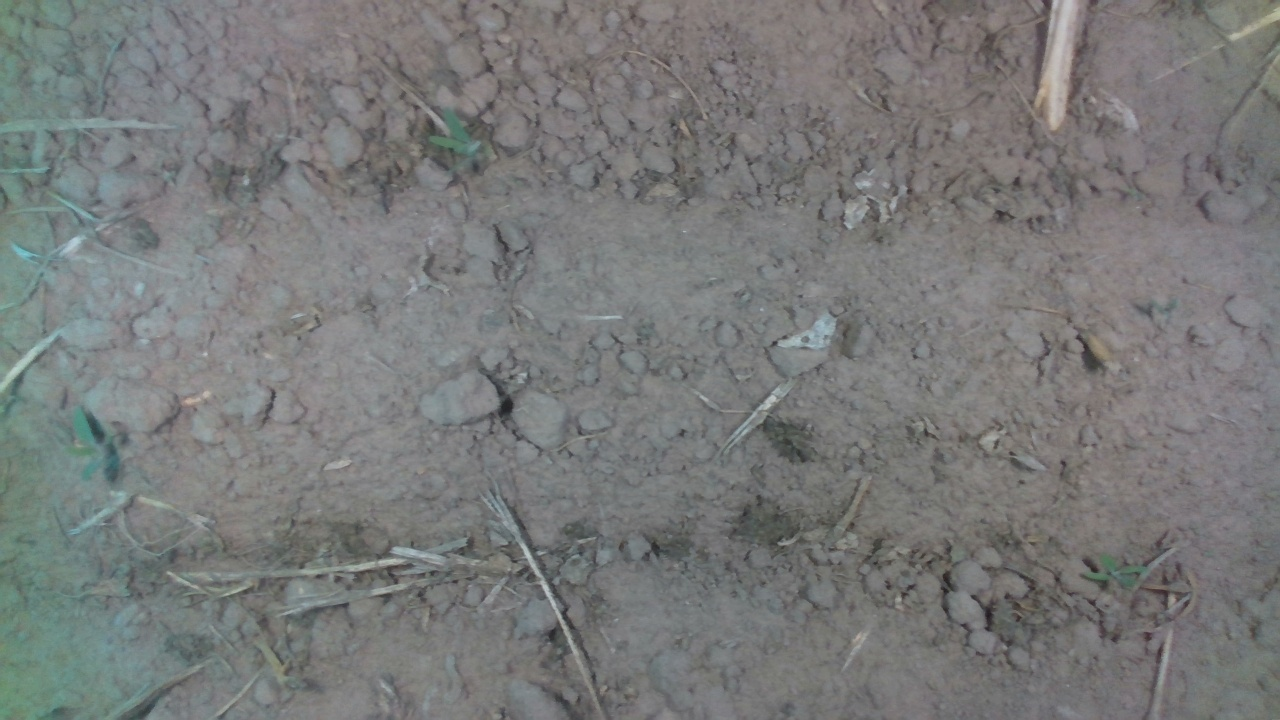weed: (58, 402, 109, 484), (421, 104, 485, 161), (1077, 550, 1149, 591)
